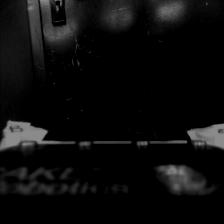Lock: (54, 0, 62, 11)
